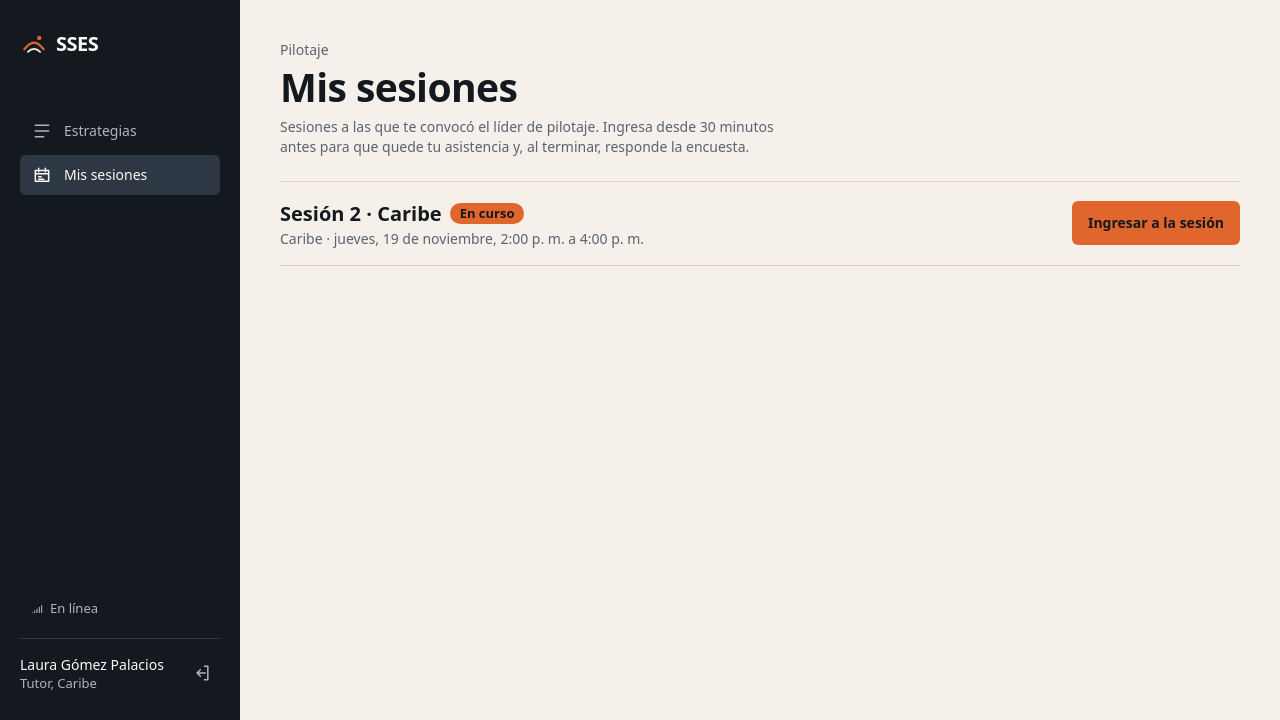
Scenario: Mis sesiones · tutor › ingresa a la sesión y queda su asistencia
The width and height of the screenshot is (1280, 720).
Click the button "Ingresar a la sesión": (1156, 223) [1072,201,1240,245]
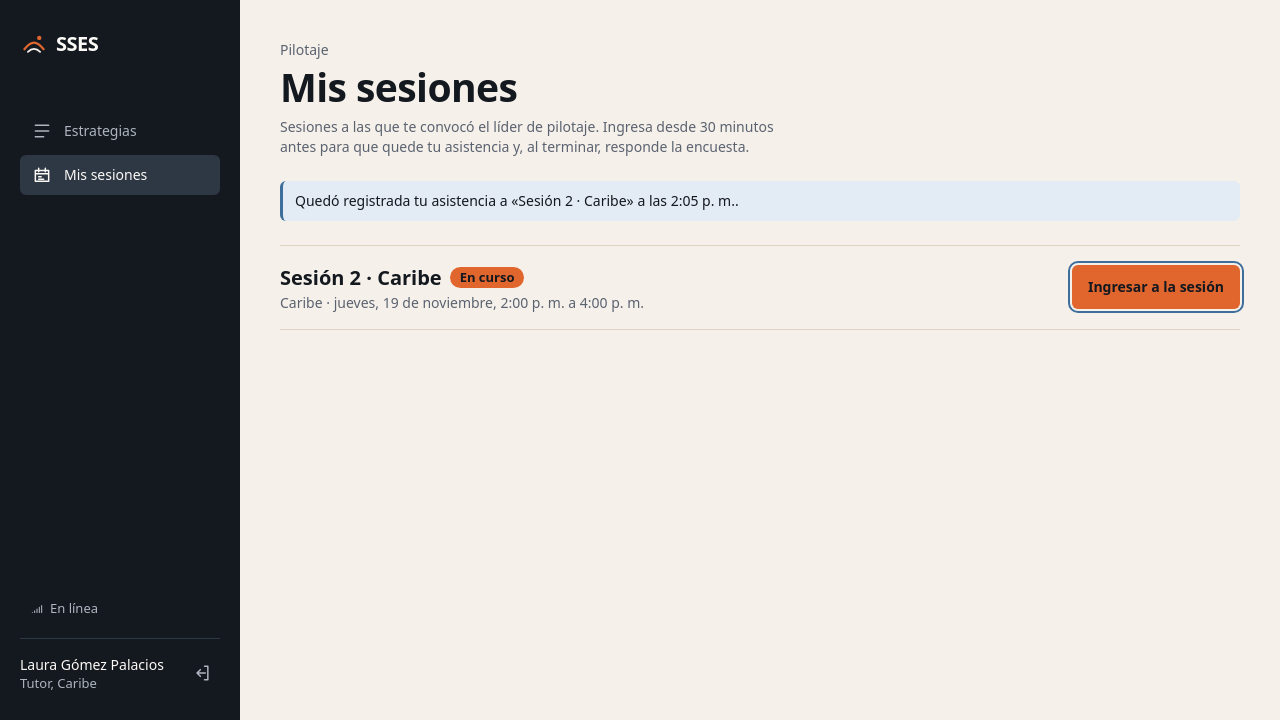
Expected: the text "Quedó registrada tu asistencia a «Sesión 2 · Caribe» a las 2:05 p. m.." is shown, [280,181,1240,221]
